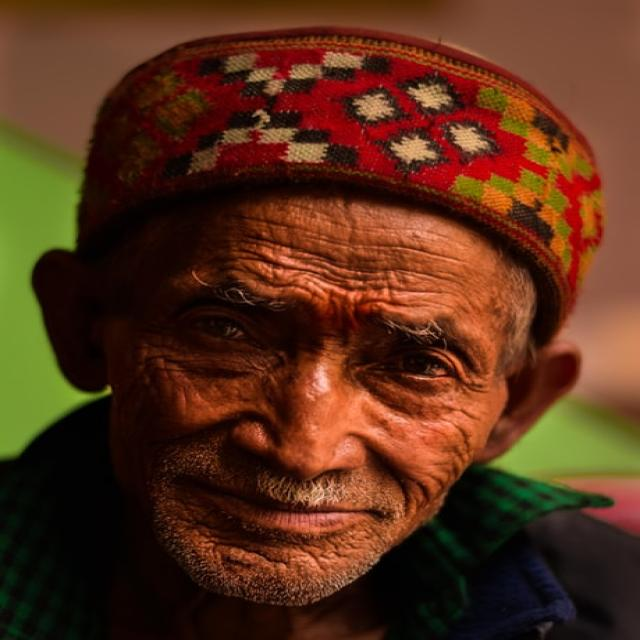Wrinkles: (242, 250, 343, 281), (243, 264, 323, 298), (247, 216, 343, 241), (312, 275, 443, 292), (249, 236, 334, 260), (359, 245, 466, 261), (291, 256, 372, 272), (307, 236, 354, 247), (313, 264, 342, 277), (426, 274, 457, 282), (372, 268, 403, 272), (405, 269, 426, 274)
